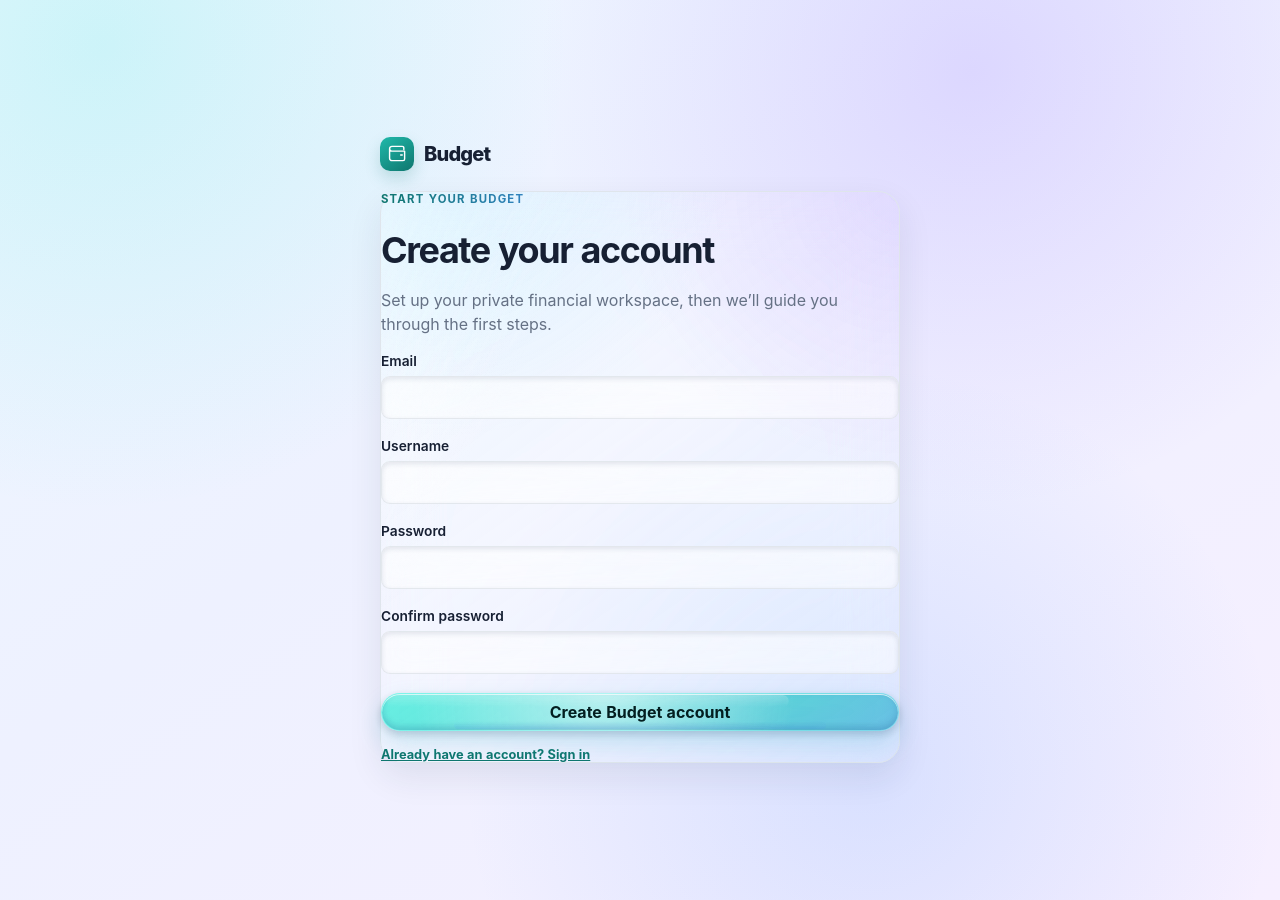
Test case: SignupPage › validates matching passwords before submitting
Step 1. Type "new@example.com" into the field labelled "Email" → {"x": 640, "y": 398}, box [381, 376, 899, 419]
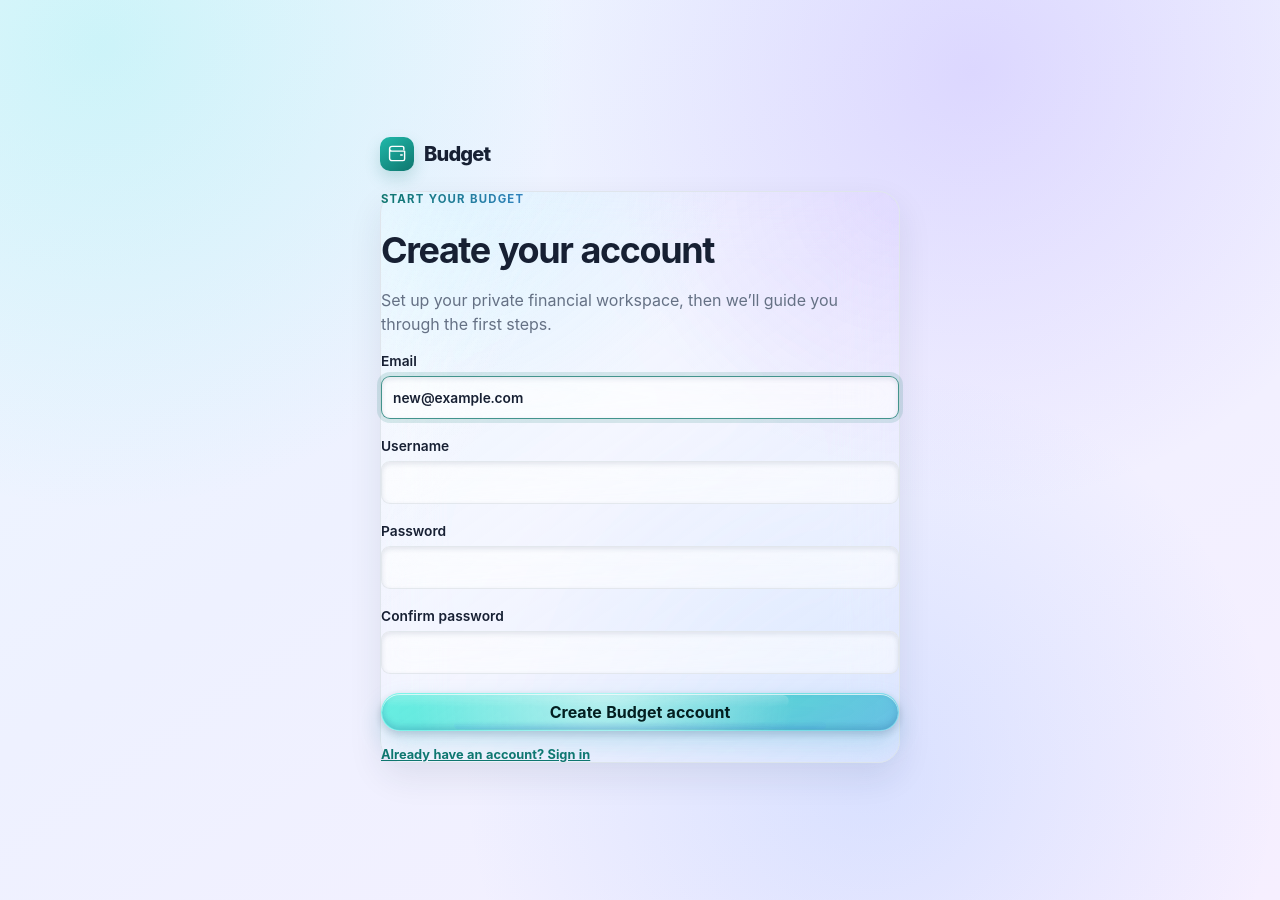
Step 2. Type "new-owner" into the field labelled "Username" → {"x": 640, "y": 483}, box [381, 461, 899, 504]
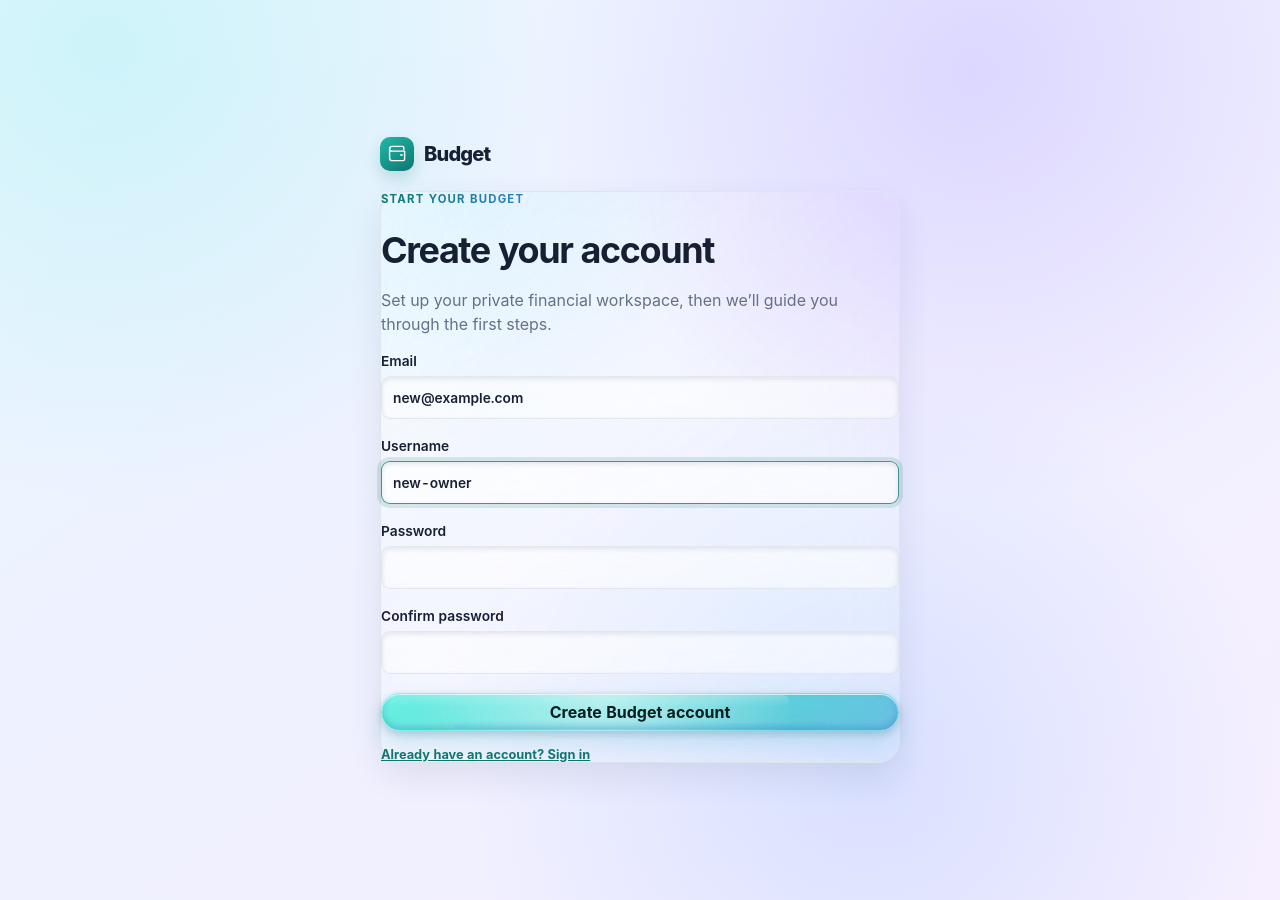
Step 3. Type "A Long New Password 123!" into the password field labelled "Password" → {"x": 640, "y": 568}, box [381, 546, 899, 589]
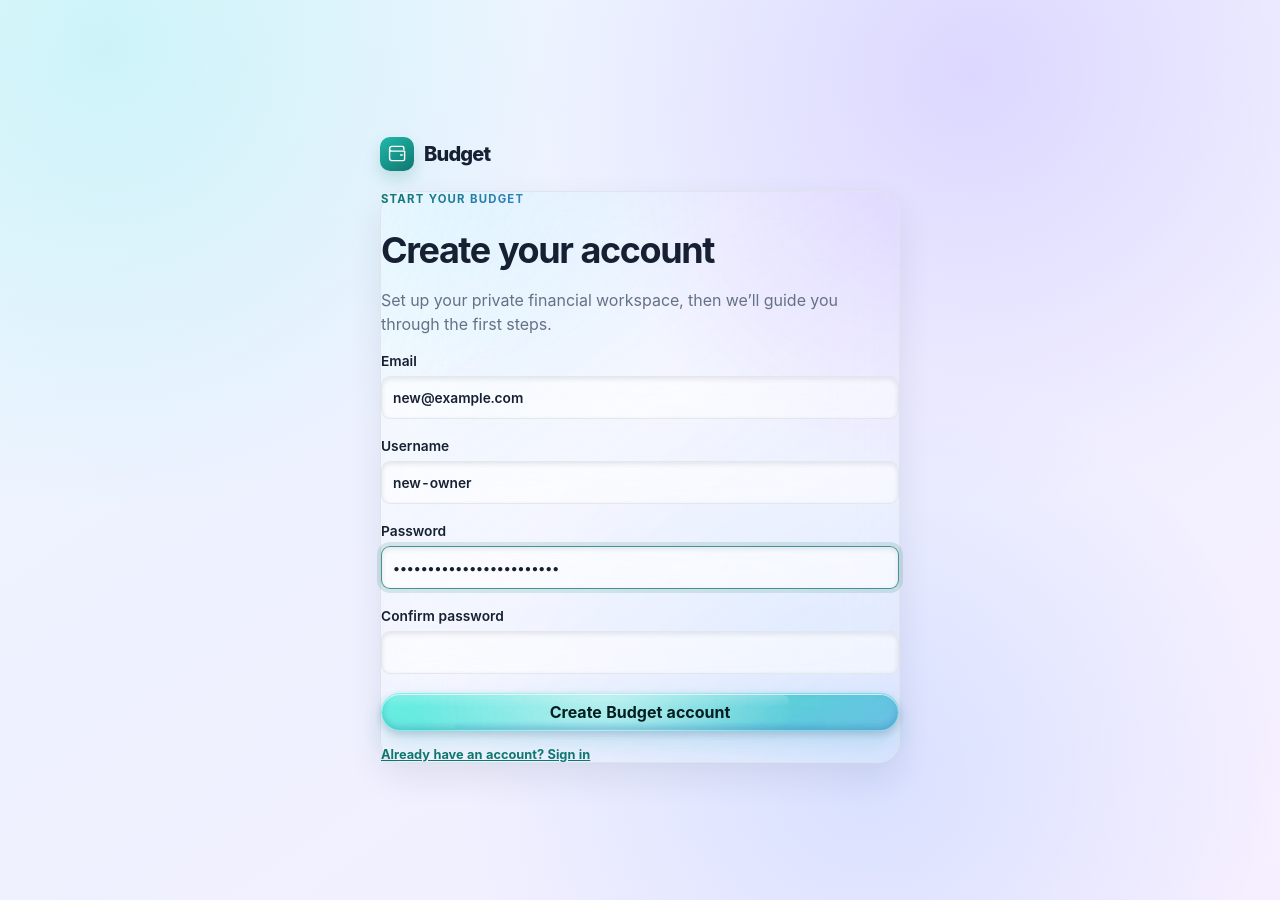
Step 4. Type "Different Password 123!" into the password field labelled "Confirm password" → {"x": 640, "y": 653}, box [381, 631, 899, 674]
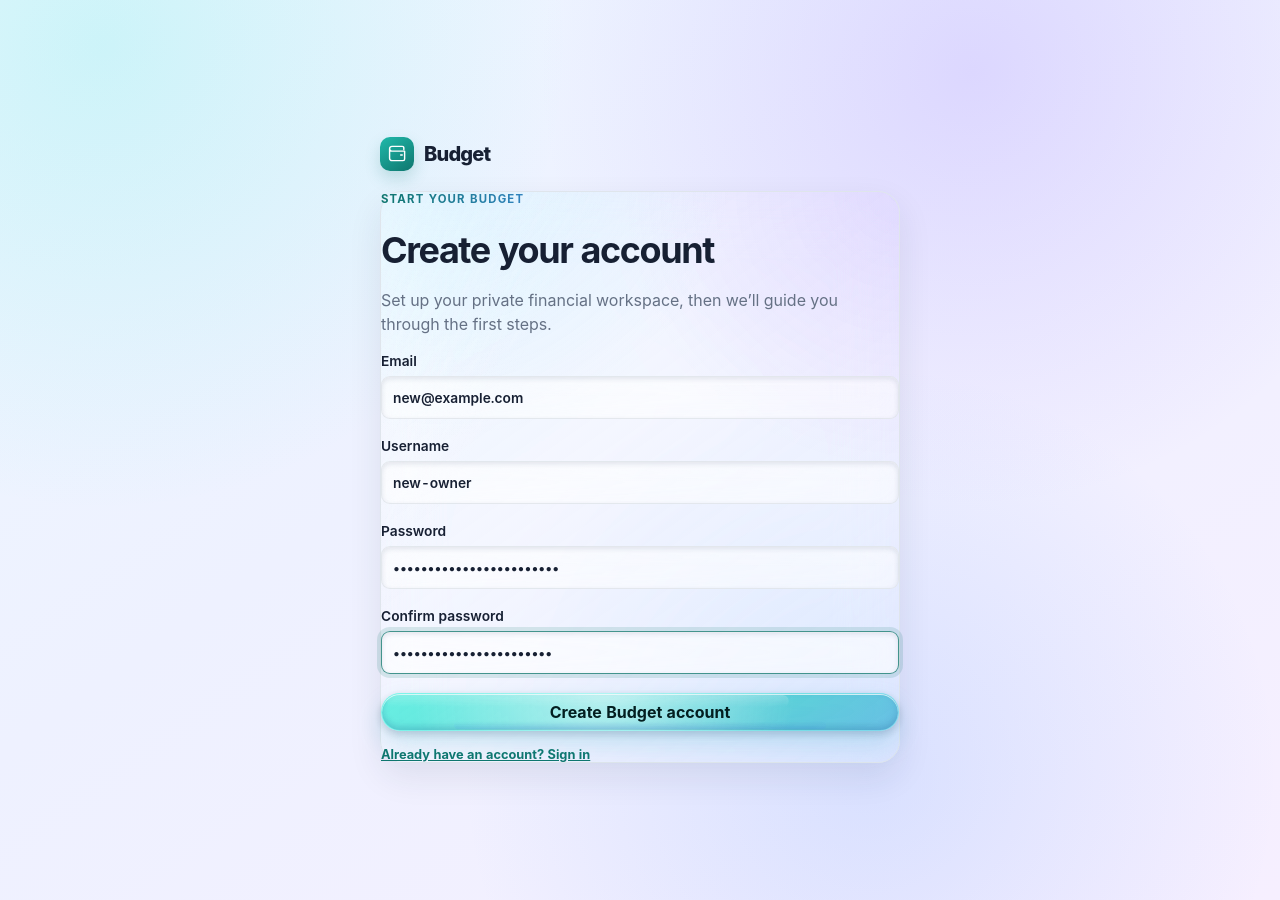
Step 5. Click the button "Create Budget account" → {"x": 640, "y": 712}, box [381, 693, 899, 731]
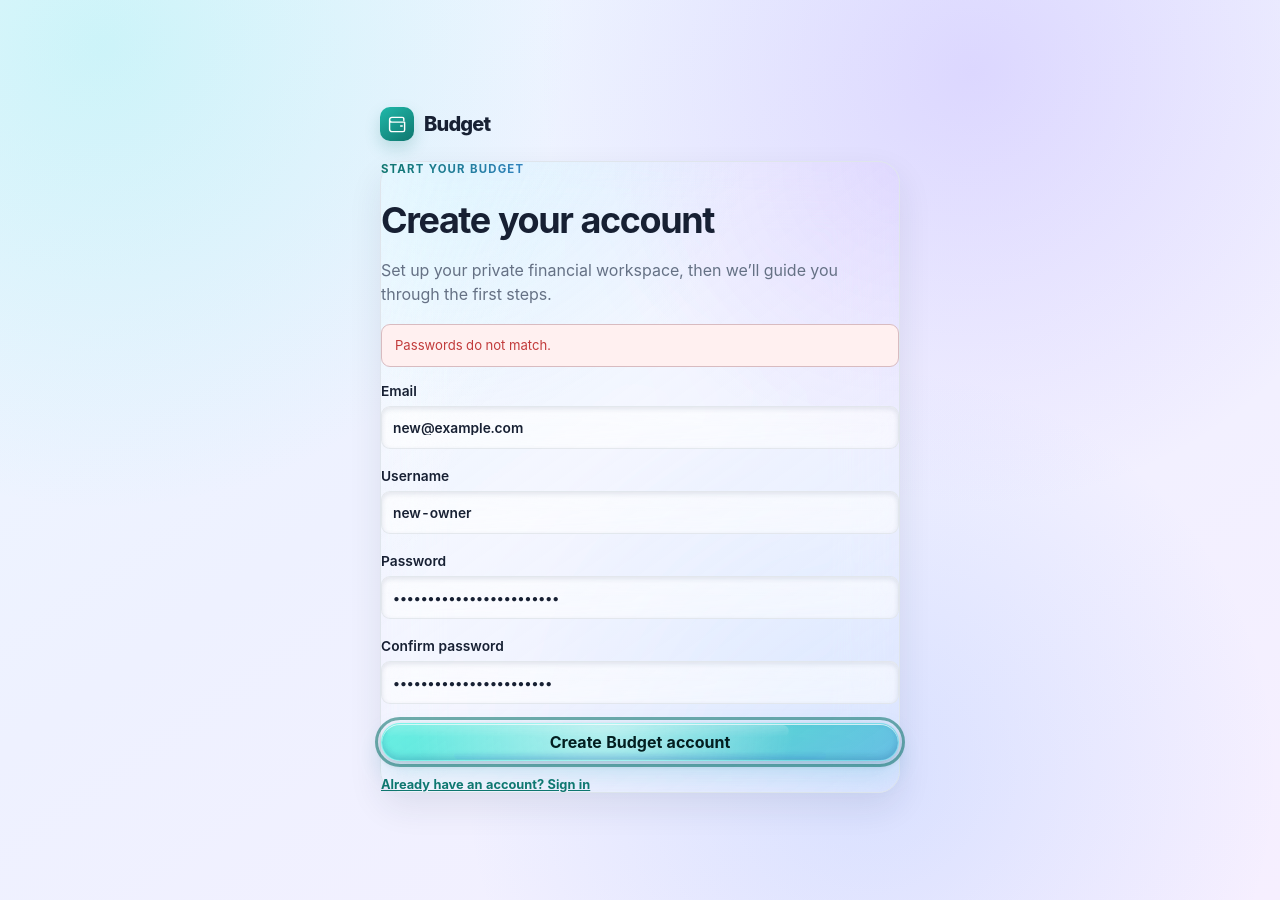
Result: the message reads "Passwords do not match." at [395, 337, 551, 353]
